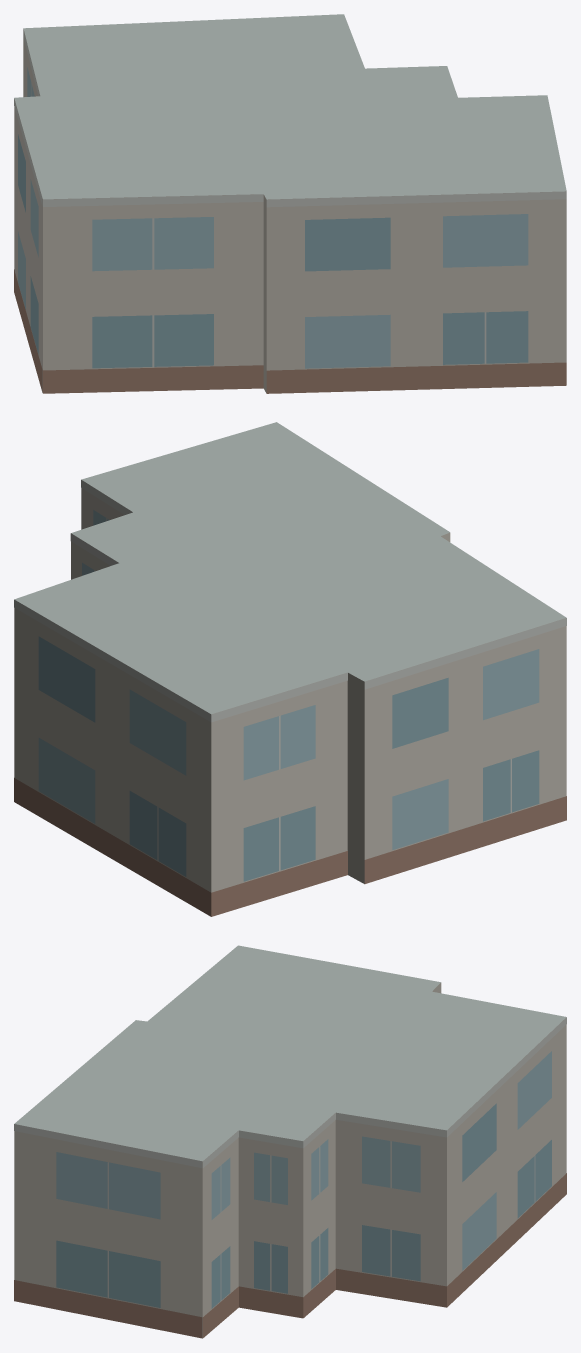
The model's file is survey-upis-32550467.glb.
3 views of the same model, one above another, from view 1: azimuth 30°, elevation 25°; view 2: azimuth 150°, elevation 25°; view 3: azimuth 270°, elevation 25° (orthographic). The views are drawn at different scales.
Parts seen in each view (by area): view 1: survey-upis-32550467.tmp; view 2: survey-upis-32550467.tmp; view 3: survey-upis-32550467.tmp.
Boxes of the visible parts, x1,y1,x2,y2 form: survey-upis-32550467.tmp: (14,14,566,393); survey-upis-32550467.tmp: (14,422,566,916); survey-upis-32550467.tmp: (14,945,566,1338).
Size of the model in its own units: 15.95 by 6.1 by 17.26.
